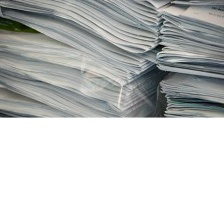book: (0, 0, 173, 121), (152, 0, 223, 119)
